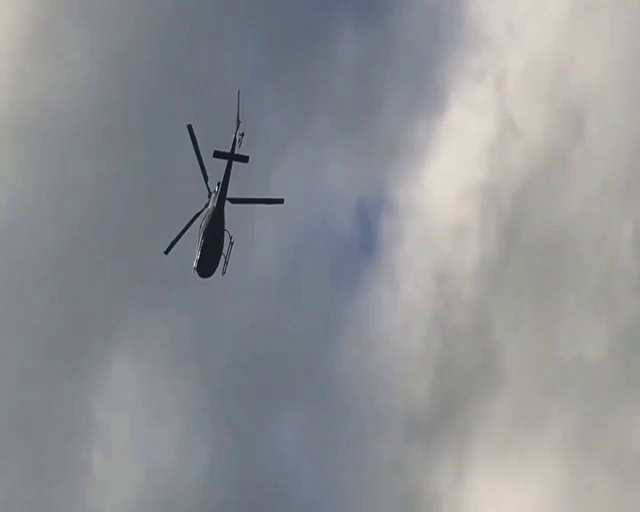HELICOPTER: (163, 100, 285, 281)
